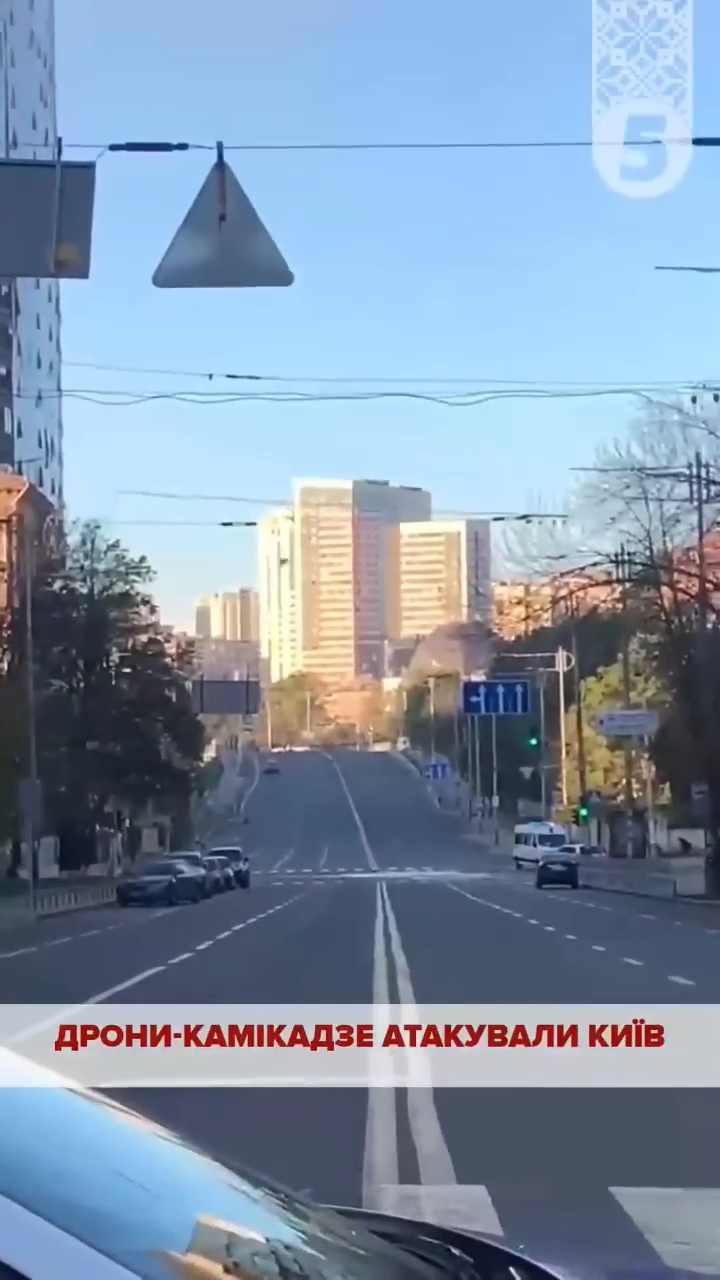shahed: (279, 556, 290, 569)
